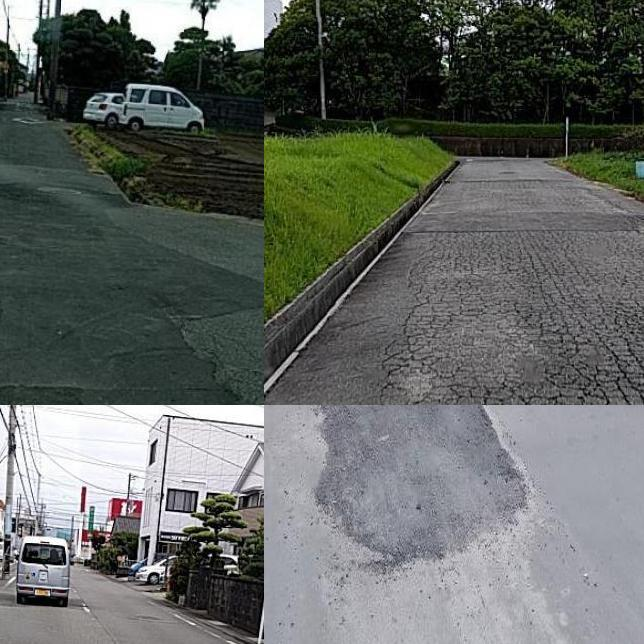Retak Buaya: (385, 229, 644, 405)
Sambungan: (0, 231, 264, 405), (310, 405, 527, 567)
